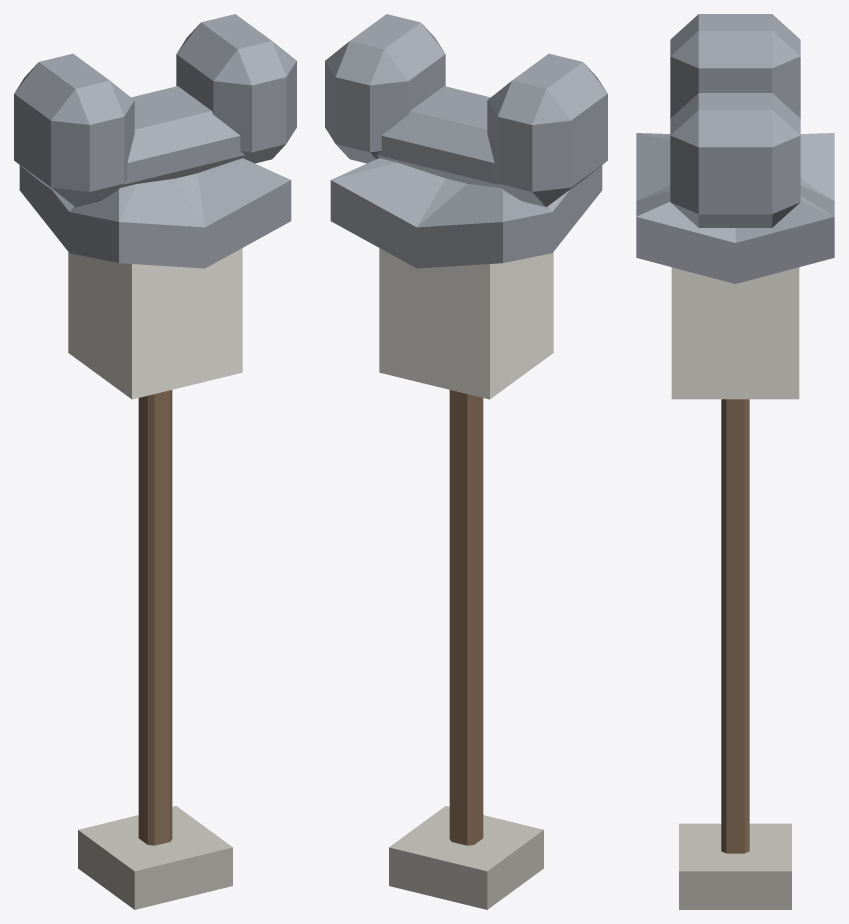
Rendered from street-lantern-post.glb.
3 renders of one model, left to right at view 1: azimuth 30°, elevation 25°; view 2: azimuth 150°, elevation 25°; view 3: azimuth 270°, elevation 25°, orthographic.
Parts seen in each view (by area): view 1: street-lantern-post; view 2: street-lantern-post; view 3: street-lantern-post.
Part boxes in pixels (<box>): street-lantern-post: <box>14,14,296,909</box>; street-lantern-post: <box>325,14,607,909</box>; street-lantern-post: <box>636,14,834,909</box>.
Bounding box in the file's own units: 1 × 3.21 × 0.7.
